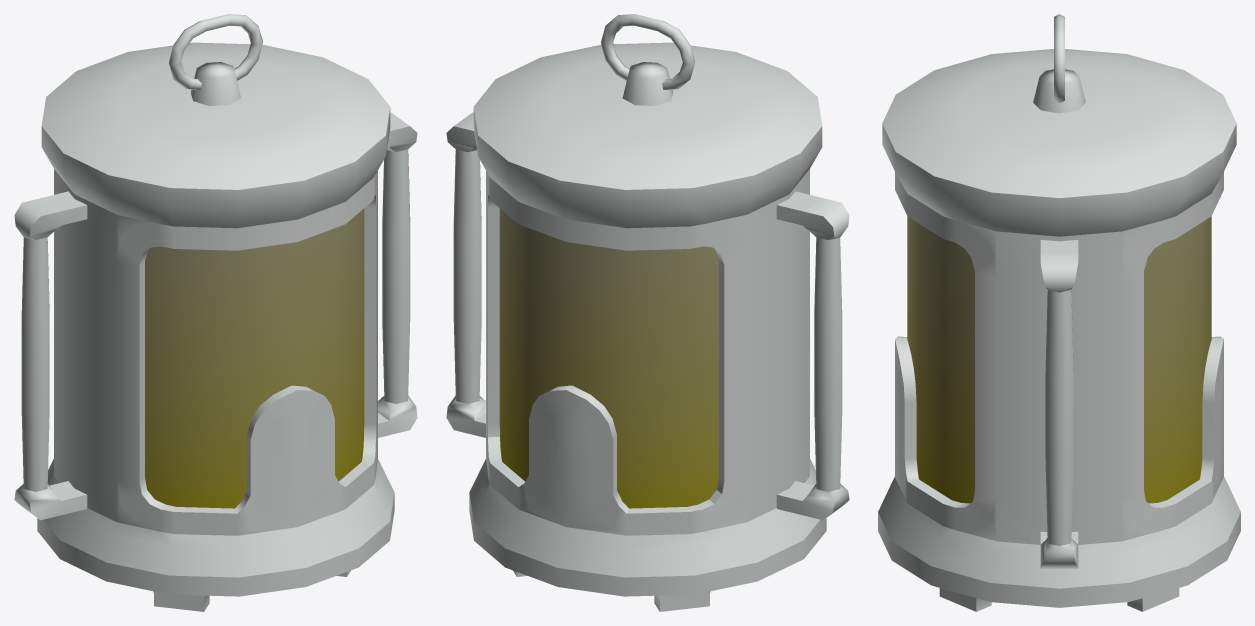
3 views of the same model, side by side, from view 1: azimuth 30°, elevation 25°; view 2: azimuth 150°, elevation 25°; view 3: azimuth 270°, elevation 25° (orthographic).
Visible parts, largest first — view 1: G:\FFXIV-MapTools\exports\n4f1\bg\ex3\01_nvt_n4\fld\n4f1\bgp (×2); view 2: G:\FFXIV-MapTools\exports\n4f1\bg\ex3\01_nvt_n4\fld\n4f1\bgp (×2); view 3: G:\FFXIV-MapTools\exports\n4f1\bg\ex3\01_nvt_n4\fld\n4f1\bgp (×2).
Boxes of the visible parts, x1,y1,x2,y2 form: G:\FFXIV-MapTools\exports\n4f1\bg\ex3\01_nvt_n4\fld\n4f1\bgp (×2): (14, 14, 417, 611); G:\FFXIV-MapTools\exports\n4f1\bg\ex3\01_nvt_n4\fld\n4f1\bgp (×2): (446, 14, 849, 611); G:\FFXIV-MapTools\exports\n4f1\bg\ex3\01_nvt_n4\fld\n4f1\bgp (×2): (878, 14, 1240, 611).
Bounding box in the file's own units: 0.6021 × 0.7896 × 0.4829.
